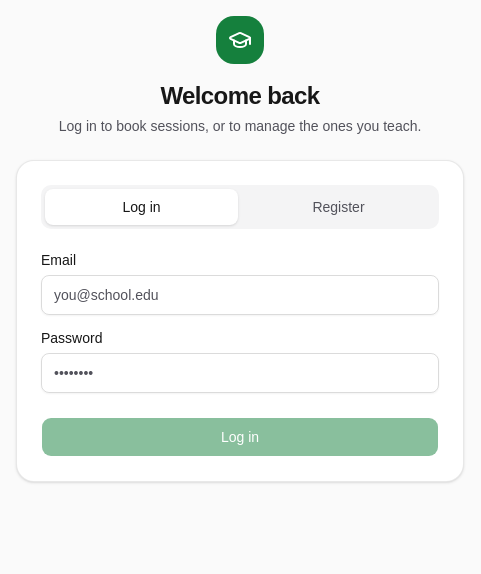
Scenario: LoginPage › shows the API's message and stays logged out when the login fails
Type "juan@dlsl.edu.ph" into the field labelled "Email".
click(240, 295); type("juan@dlsl.edu.ph")  # box 41,275 -> 439,315
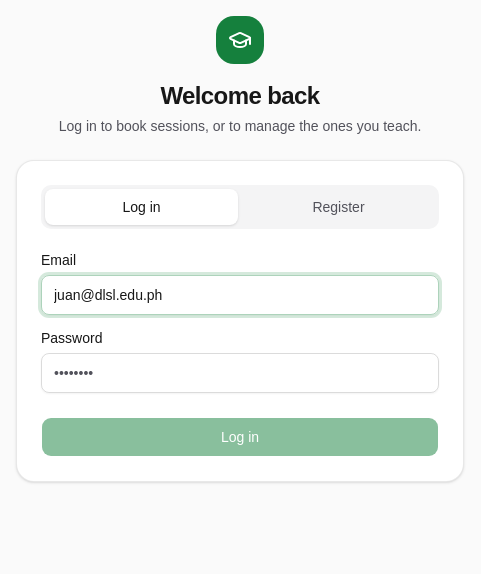
Type "wrong-password" into the password field labelled "Password".
click(240, 373); type("wrong-password")  # box 41,353 -> 439,393
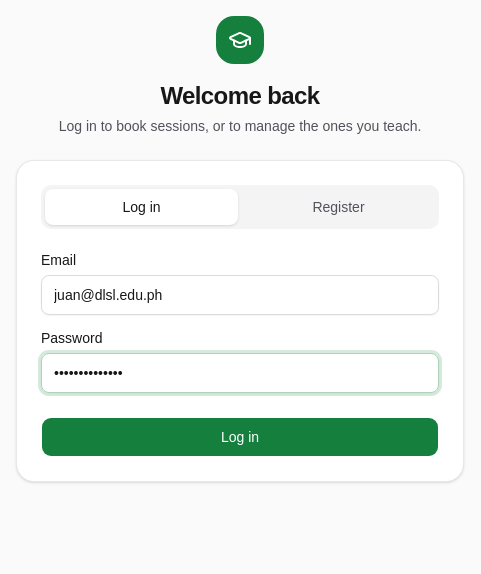
Click the button "Log in".
click(240, 437)  # box 41,417 -> 439,457
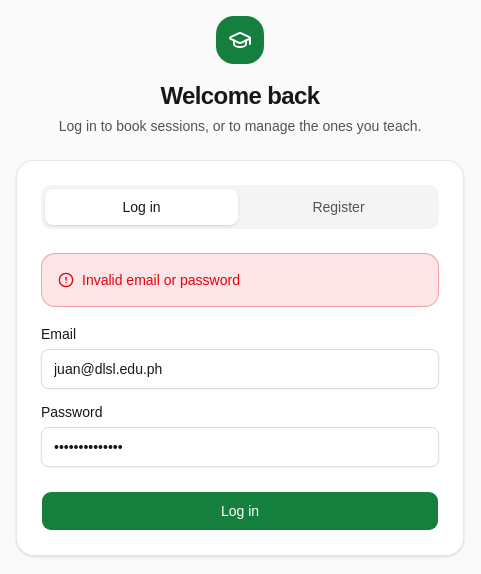
Now the text "Invalid email or password" is shown, box 82,270 -> 240,290
